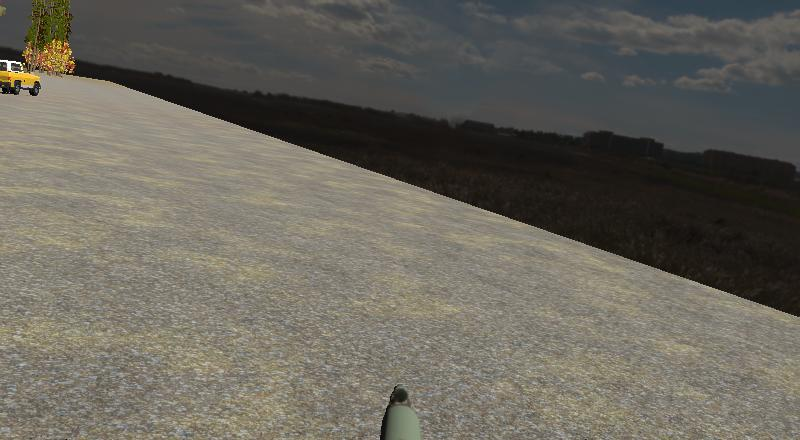car: (0, 58, 42, 97)
